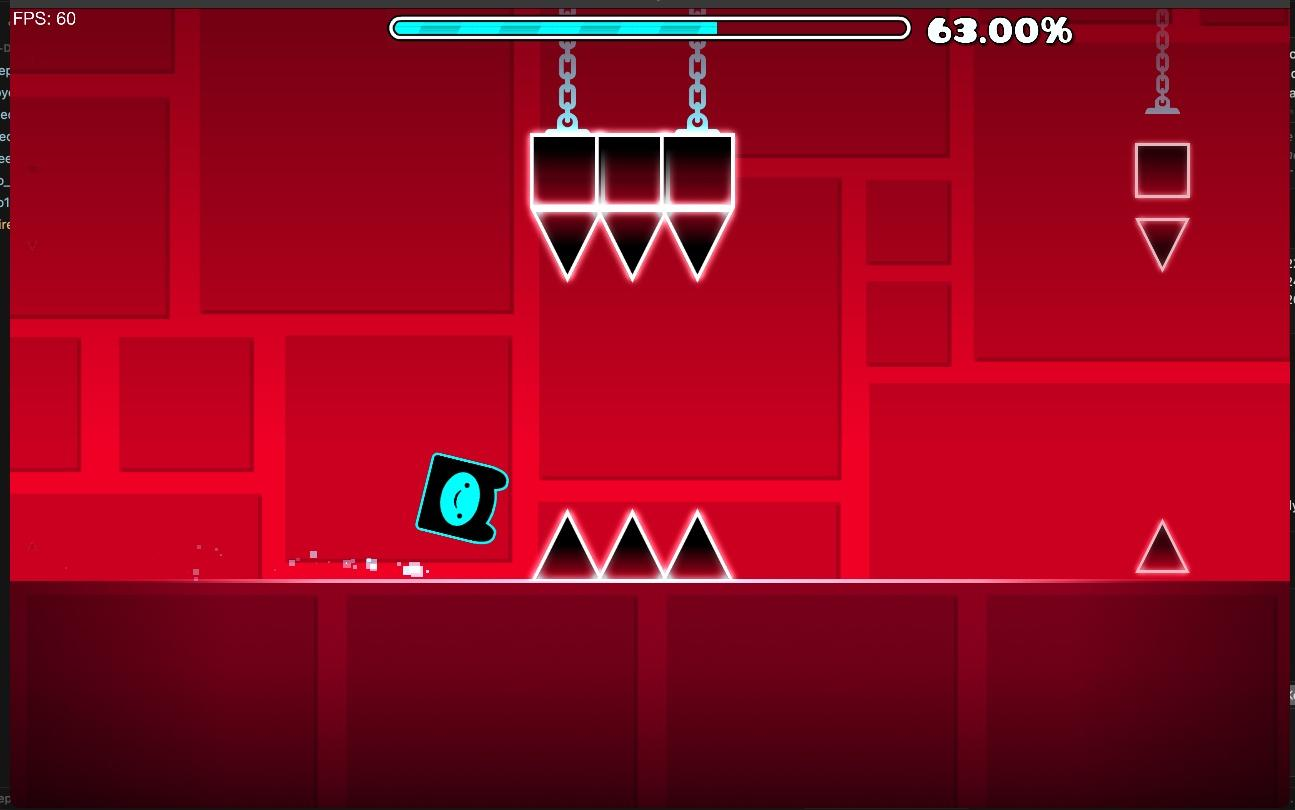block: (9, 581, 1289, 806)
player: (416, 453, 507, 544)
spike: (529, 128, 735, 280), (534, 511, 732, 578), (1136, 217, 1189, 271), (1138, 521, 1187, 572)
